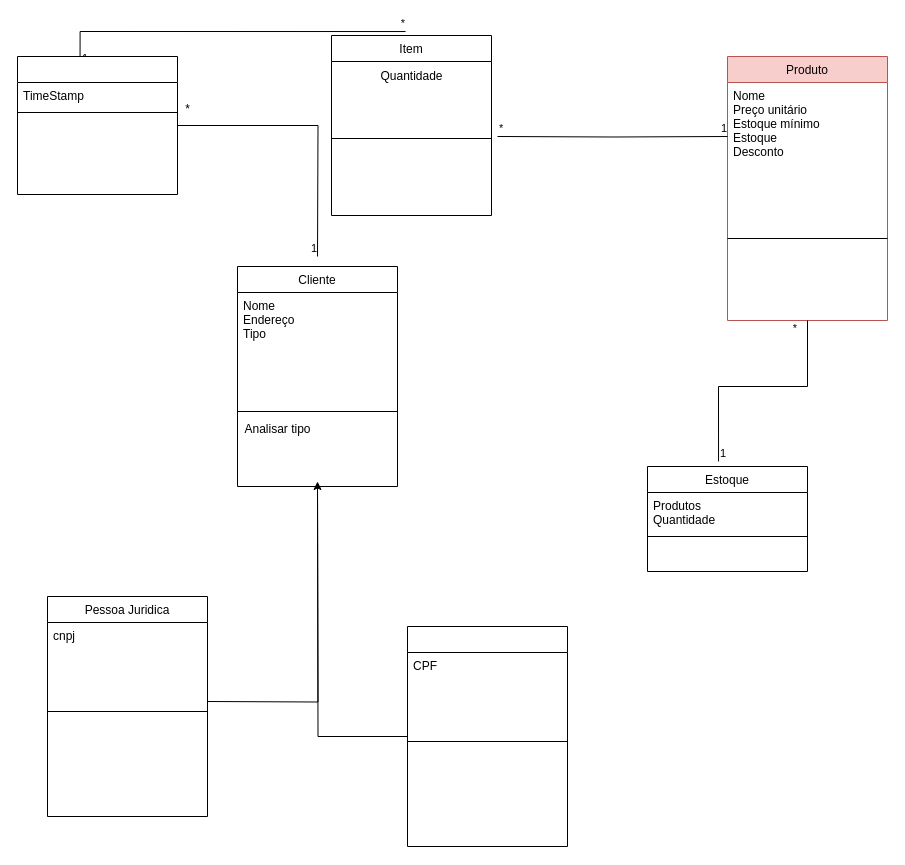
Image size: 905x865. Some labels were removed from this diagram. The shapes that lost their labels are listed below. From the top down, each one's box as (x1, y1, x2, y2) in pixels, then its label:
(16, 56, 178, 194): Pedido
(406, 626, 568, 846): Física
